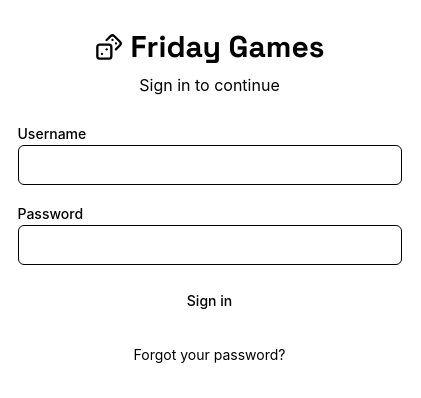
LoginPage › shows a rate-limit message on 429
Type "alice" into the field labelled "Username" at (210, 165), box [18,145,402,185]
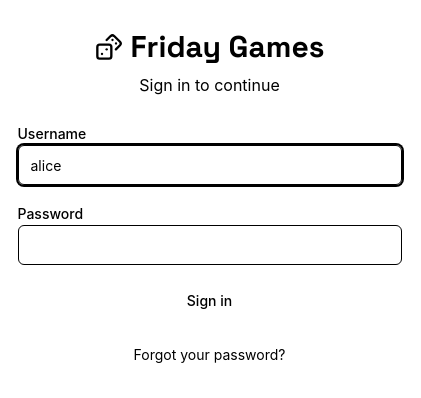
Type "wrong" into the password field labelled "Password" at (210, 245), box [18,225,402,265]
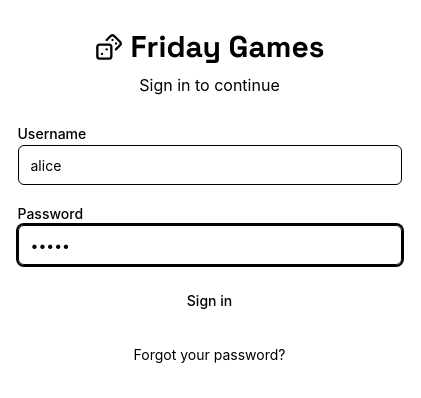
Click the button "Sign in" at (210, 301), box [18,281,402,321]
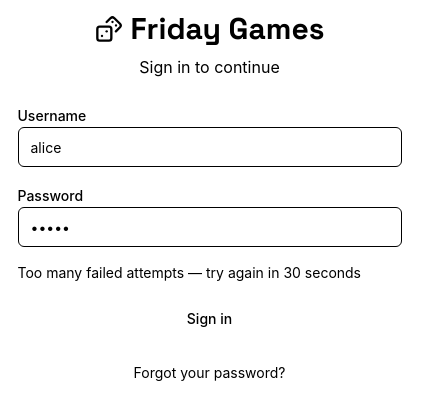
expect the text "Too many failed attempts — try again in 30 seconds" is shown: met, box [18,263,402,283]
